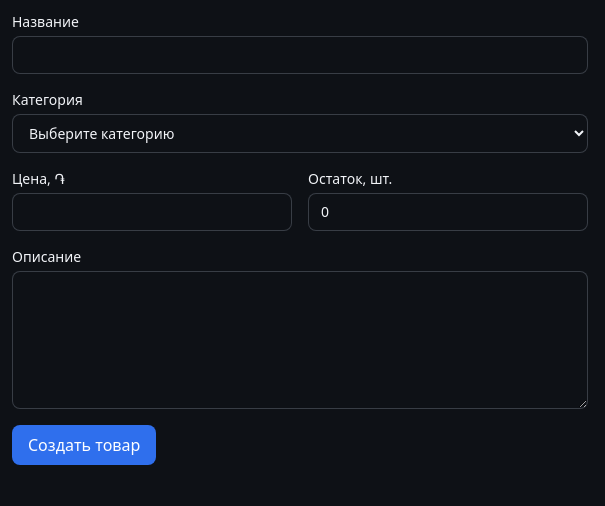
Scenario: ProductForm › shows what the backend refused
Type "Кружка" into the field labelled "Название" at [300, 55], box [12,36,588,74]
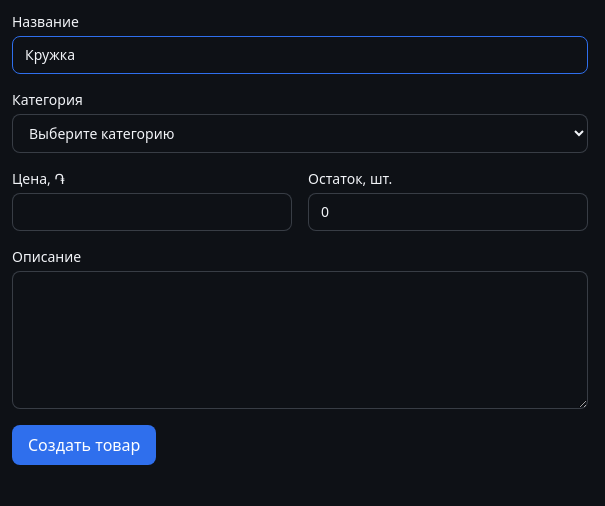
Select "Посуда" in the dropdown labelled "Категория" at [300, 134], box [12,114,588,153]
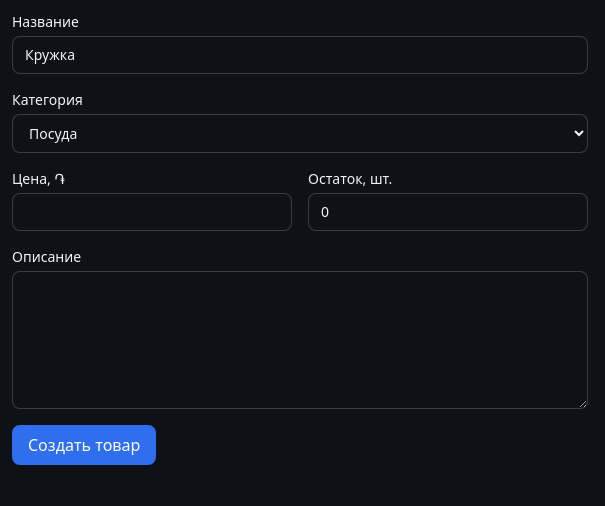
Type "1500.00" into the field labelled "Цена, ֏" at [152, 212], box [12,193,292,231]
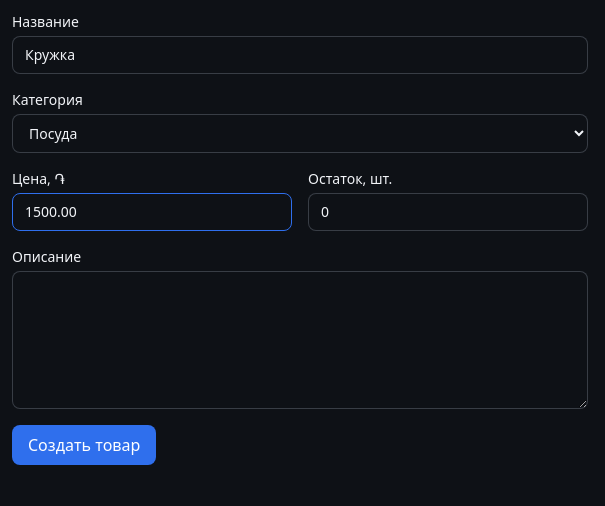
Type "Ручная работа" into the text box labelled "Описание" at [300, 340], box [12,271,588,409]
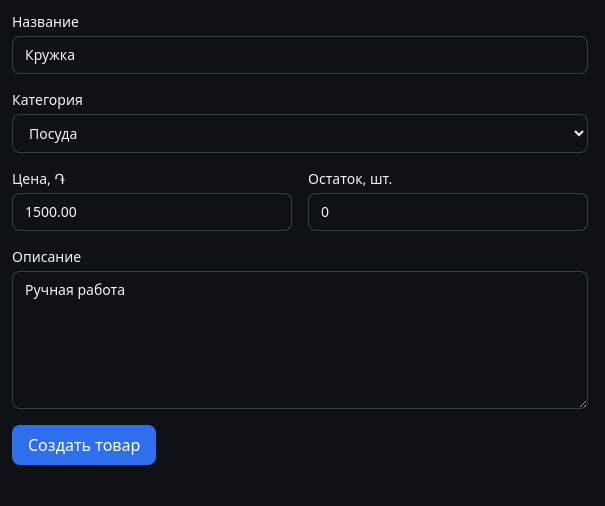
Click the button "Создать товар" at [84, 445], box [12,425,156,465]
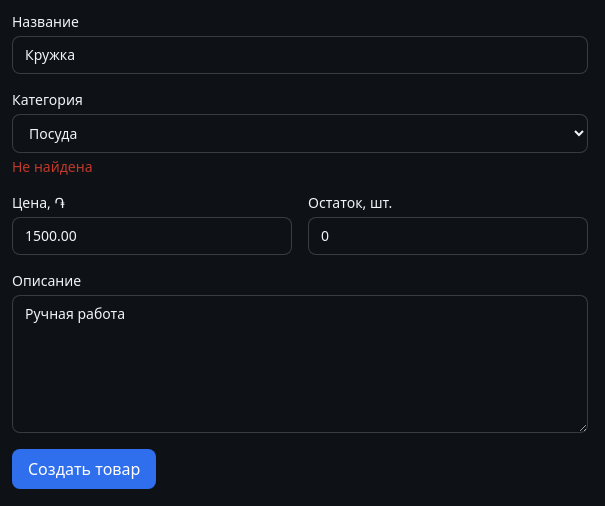
Expected: the message reads "Не найдена", [12,157,92,176]
